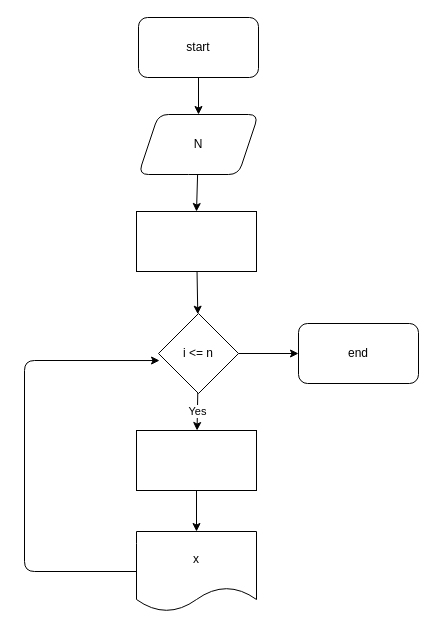
Some shapes in this 436 by 629 pixel diagram are drawn without their labels. The shapes that lost their labels are listed below. From the top down, each one's centre as x and y in pixels, then its label:
pixel 196 241: n = N div 2 i = 1
pixel 196 460: x = 2*i i += 1
